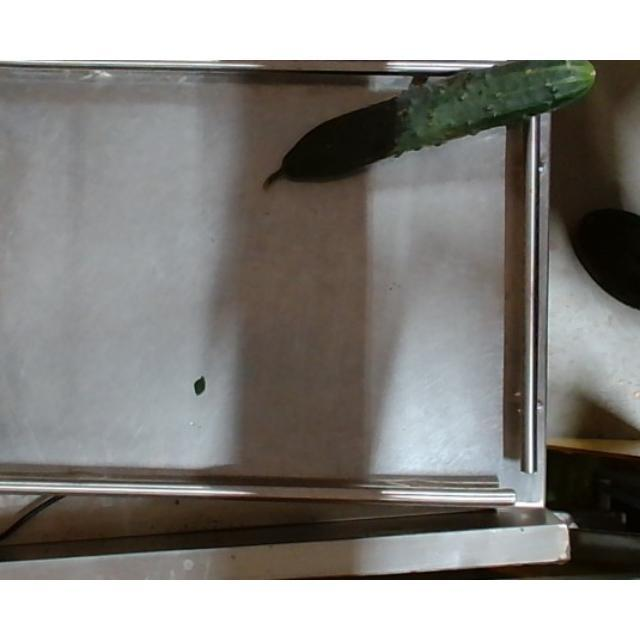cucumber: (259, 60, 596, 190)
